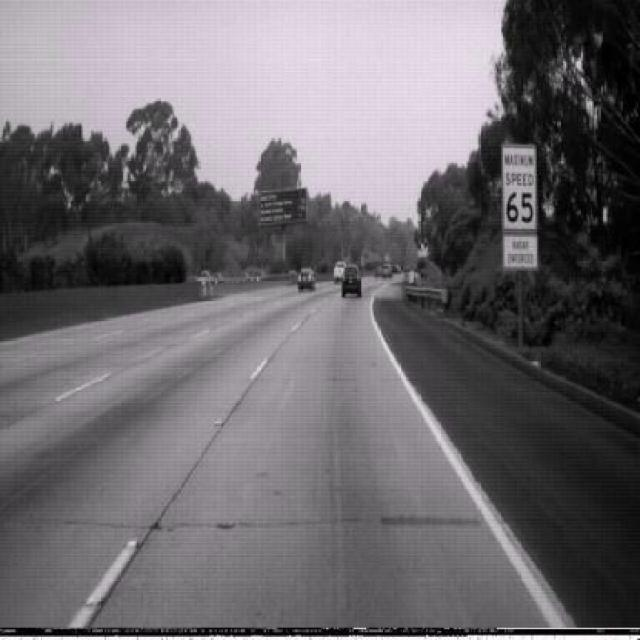speedLimit65: (500, 142, 538, 233)
